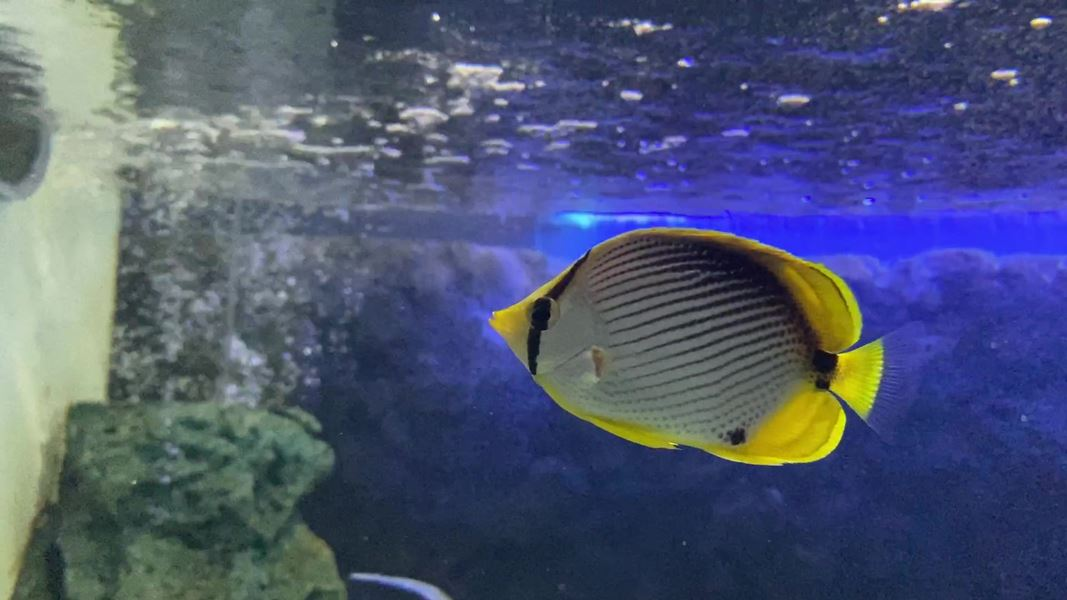Black-backed butterflyfish: (473, 213, 945, 478)
